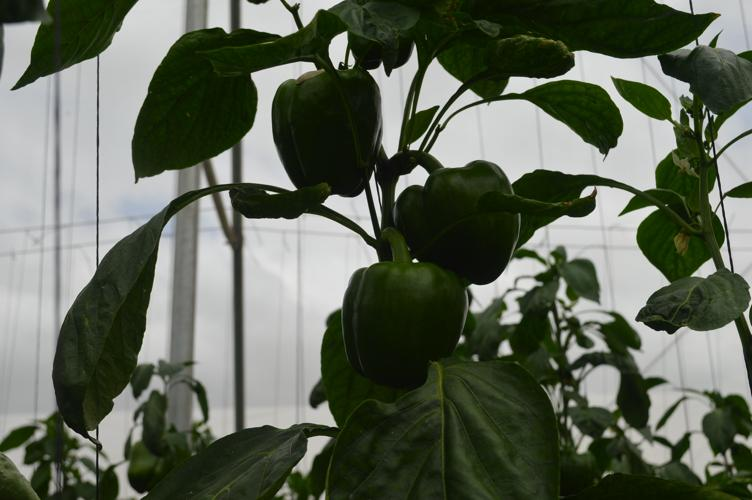BellPepper: (391, 160, 520, 286), (340, 267, 469, 387), (273, 69, 382, 193)
